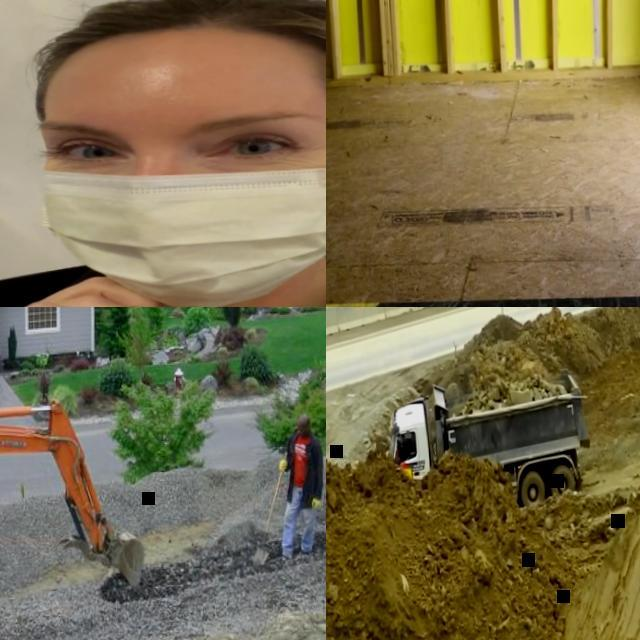vest: (290, 438, 314, 488)
